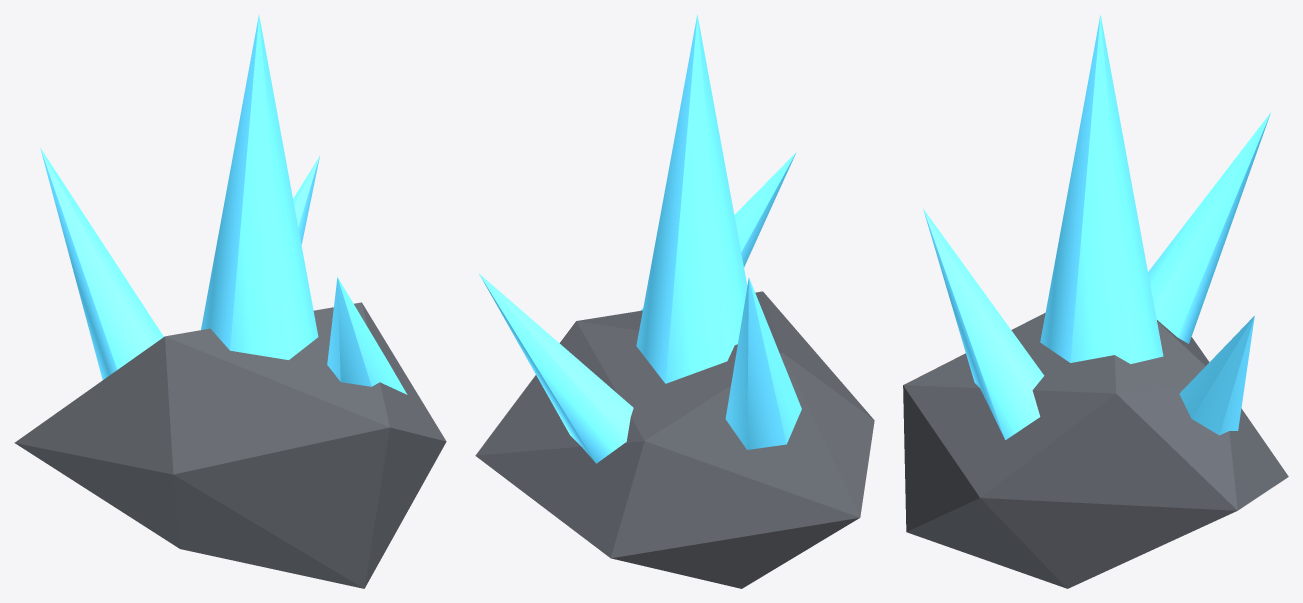
The model's file is cristal.glb.
3 views of the same model, side by side, from view 1: azimuth 30°, elevation 25°; view 2: azimuth 150°, elevation 25°; view 3: azimuth 270°, elevation 25° (orthographic). The views are drawn at different scales.
Parts seen in each view (by area): view 1: cristal; view 2: cristal; view 3: cristal.
Part boxes in pixels (box(x1,y1,x2,y2)): cristal: box(14, 15, 446, 588); cristal: box(475, 14, 874, 588); cristal: box(903, 14, 1288, 588).
Bounding box in the file's own units: 0.2963 × 0.4302 × 0.2787.
